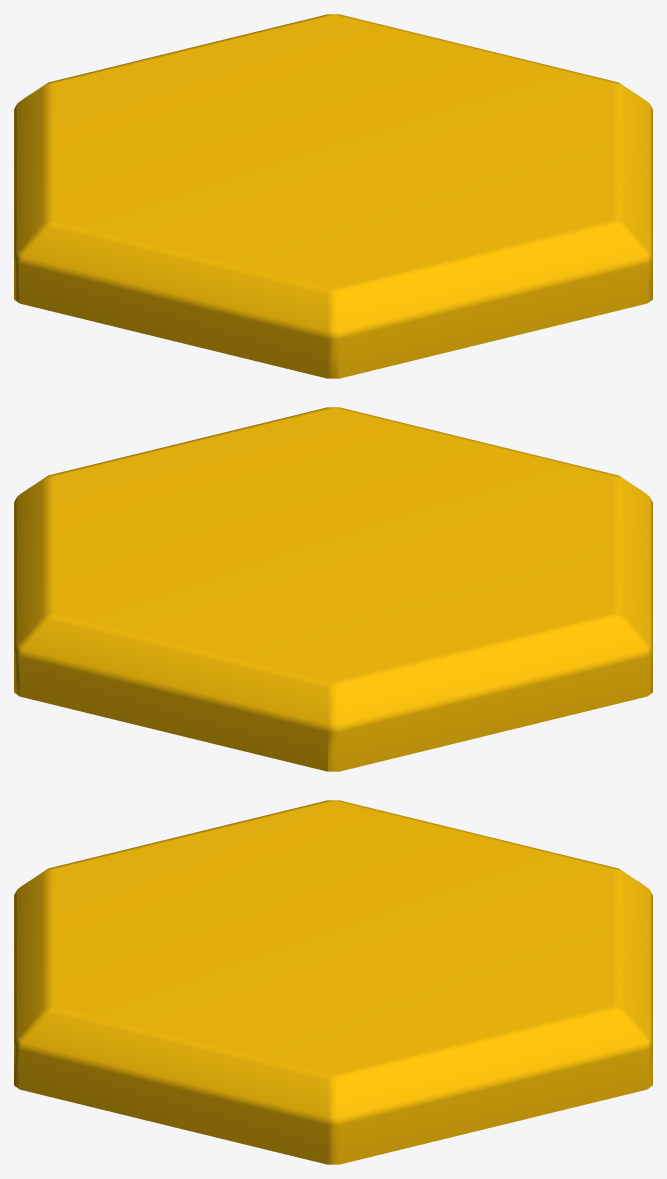
Rendered from HexTile0.fbx.
The picture shows the model from 3 angles, top to bottom: view 1: azimuth 30°, elevation 25°; view 2: azimuth 150°, elevation 25°; view 3: azimuth 270°, elevation 25°; orthographic projection.
Visible parts, largest first — view 1: Hexagon_01_MO_0; view 2: Hexagon_01_MO_0; view 3: Hexagon_01_MO_0.
Part boxes in pixels (x1,y1,x2,y2): Hexagon_01_MO_0: (14,14,652,378); Hexagon_01_MO_0: (14,407,652,771); Hexagon_01_MO_0: (14,800,652,1164).
Bounding box in the file's own units: 4.59 × 0.5016 × 4.01.
